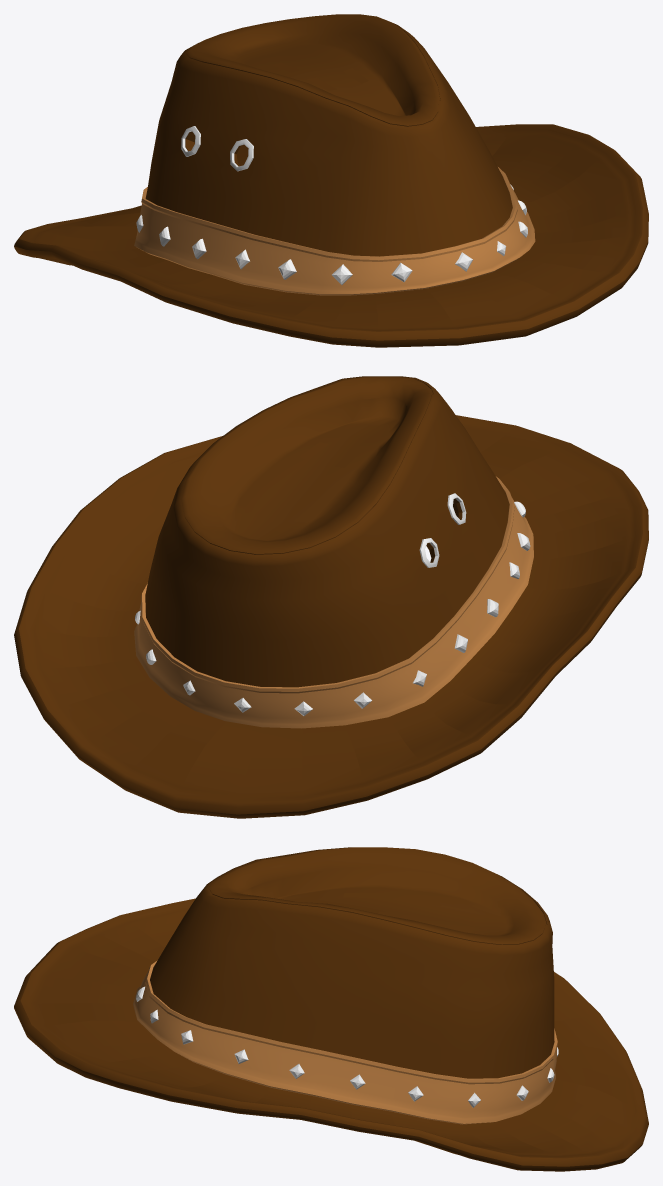
The model's file is CowBoyHat_Girl.fbx.
3 views of the same model, one above another, from view 1: azimuth 30°, elevation 25°; view 2: azimuth 150°, elevation 25°; view 3: azimuth 270°, elevation 25° (orthographic). The views are drawn at different scales.
Parts seen in each view (by area): view 1: Cowboy_hat; view 2: Cowboy_hat; view 3: Cowboy_hat.
Part boxes in pixels (x1,y1,x2,y2): Cowboy_hat: (14, 14, 648, 347); Cowboy_hat: (14, 376, 648, 818); Cowboy_hat: (14, 847, 648, 1171).
Size of the model in its own units: 98.14 by 50.08 by 114.
